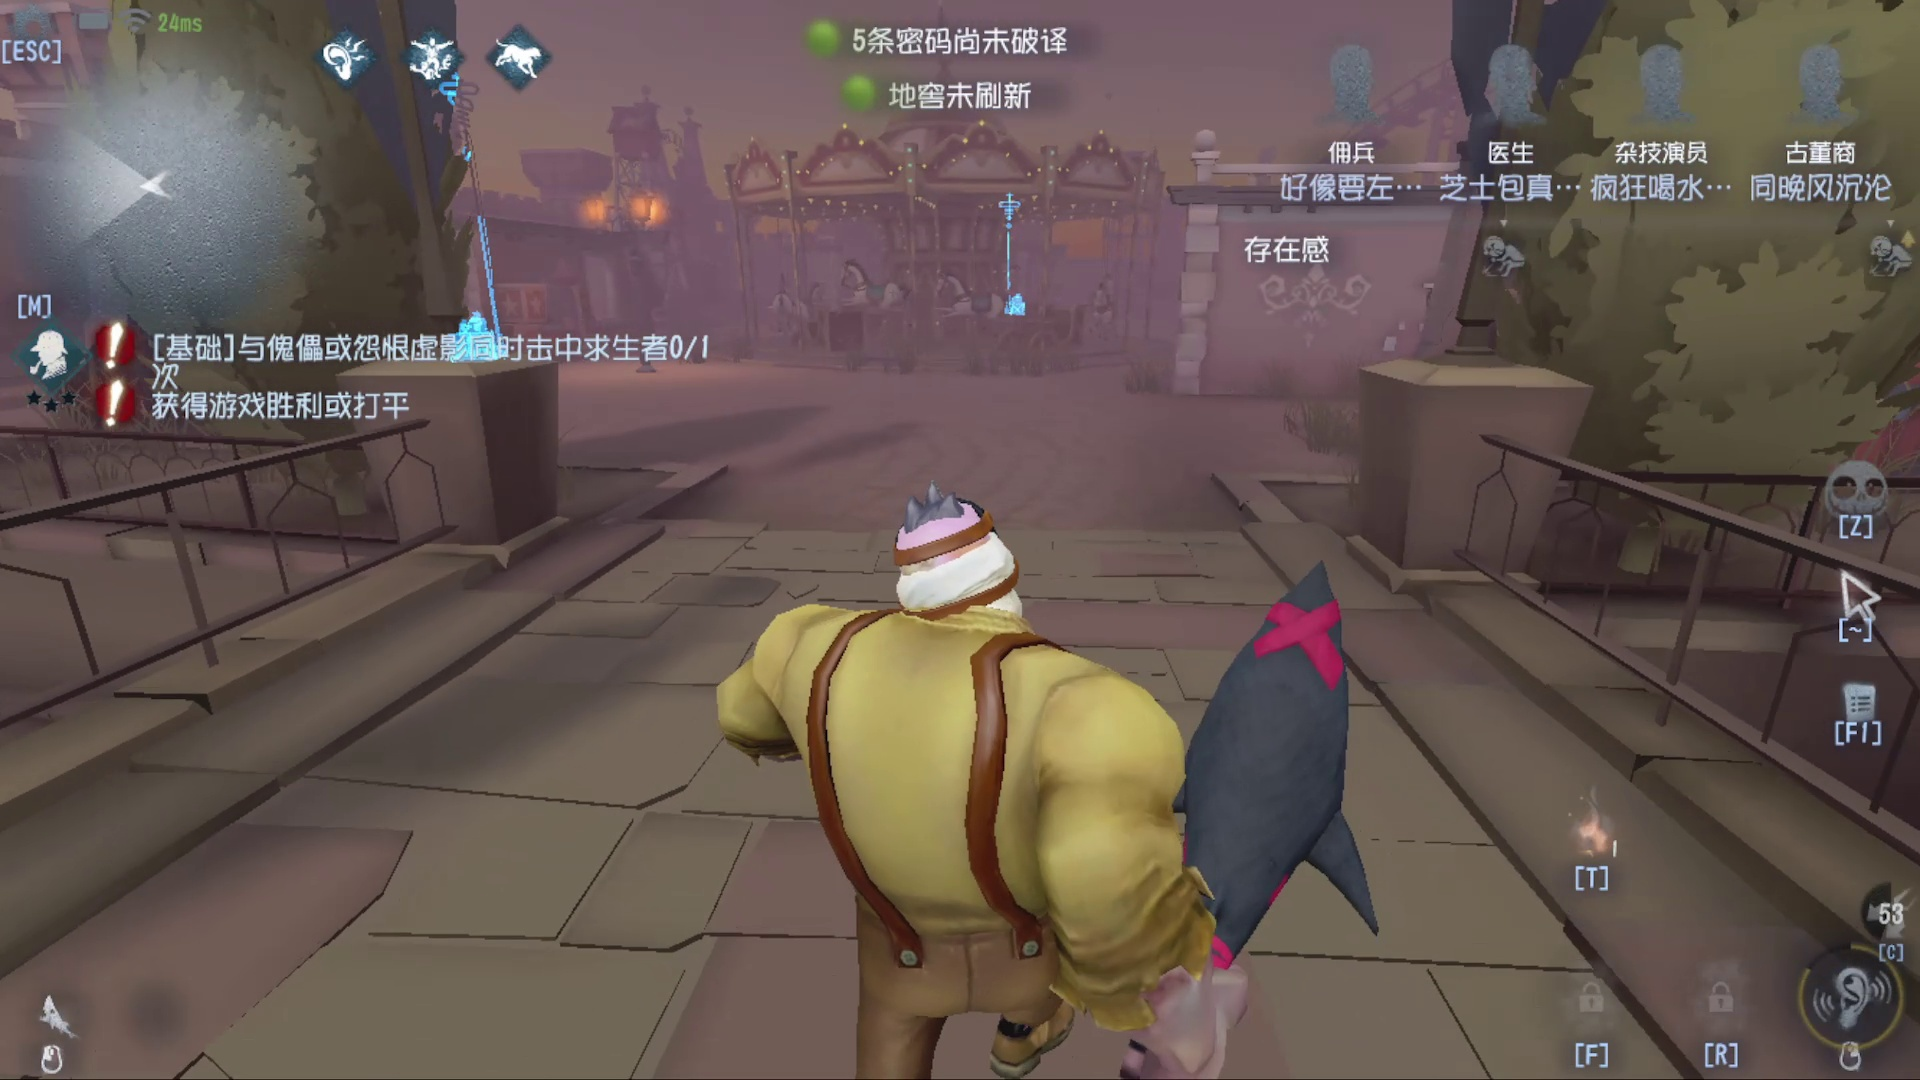密码机: (415, 67, 541, 396), (978, 178, 1042, 330)
